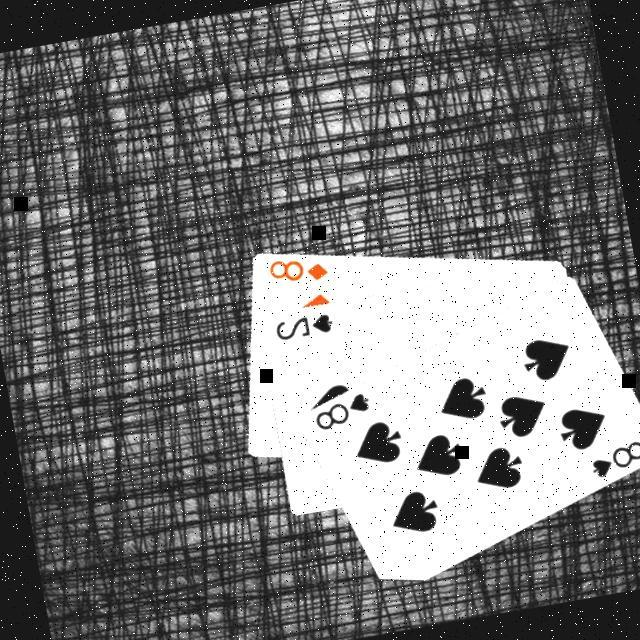2S: (272, 307, 340, 344)
8D: (265, 247, 334, 292)
8S: (309, 388, 377, 435), (585, 436, 640, 482)
